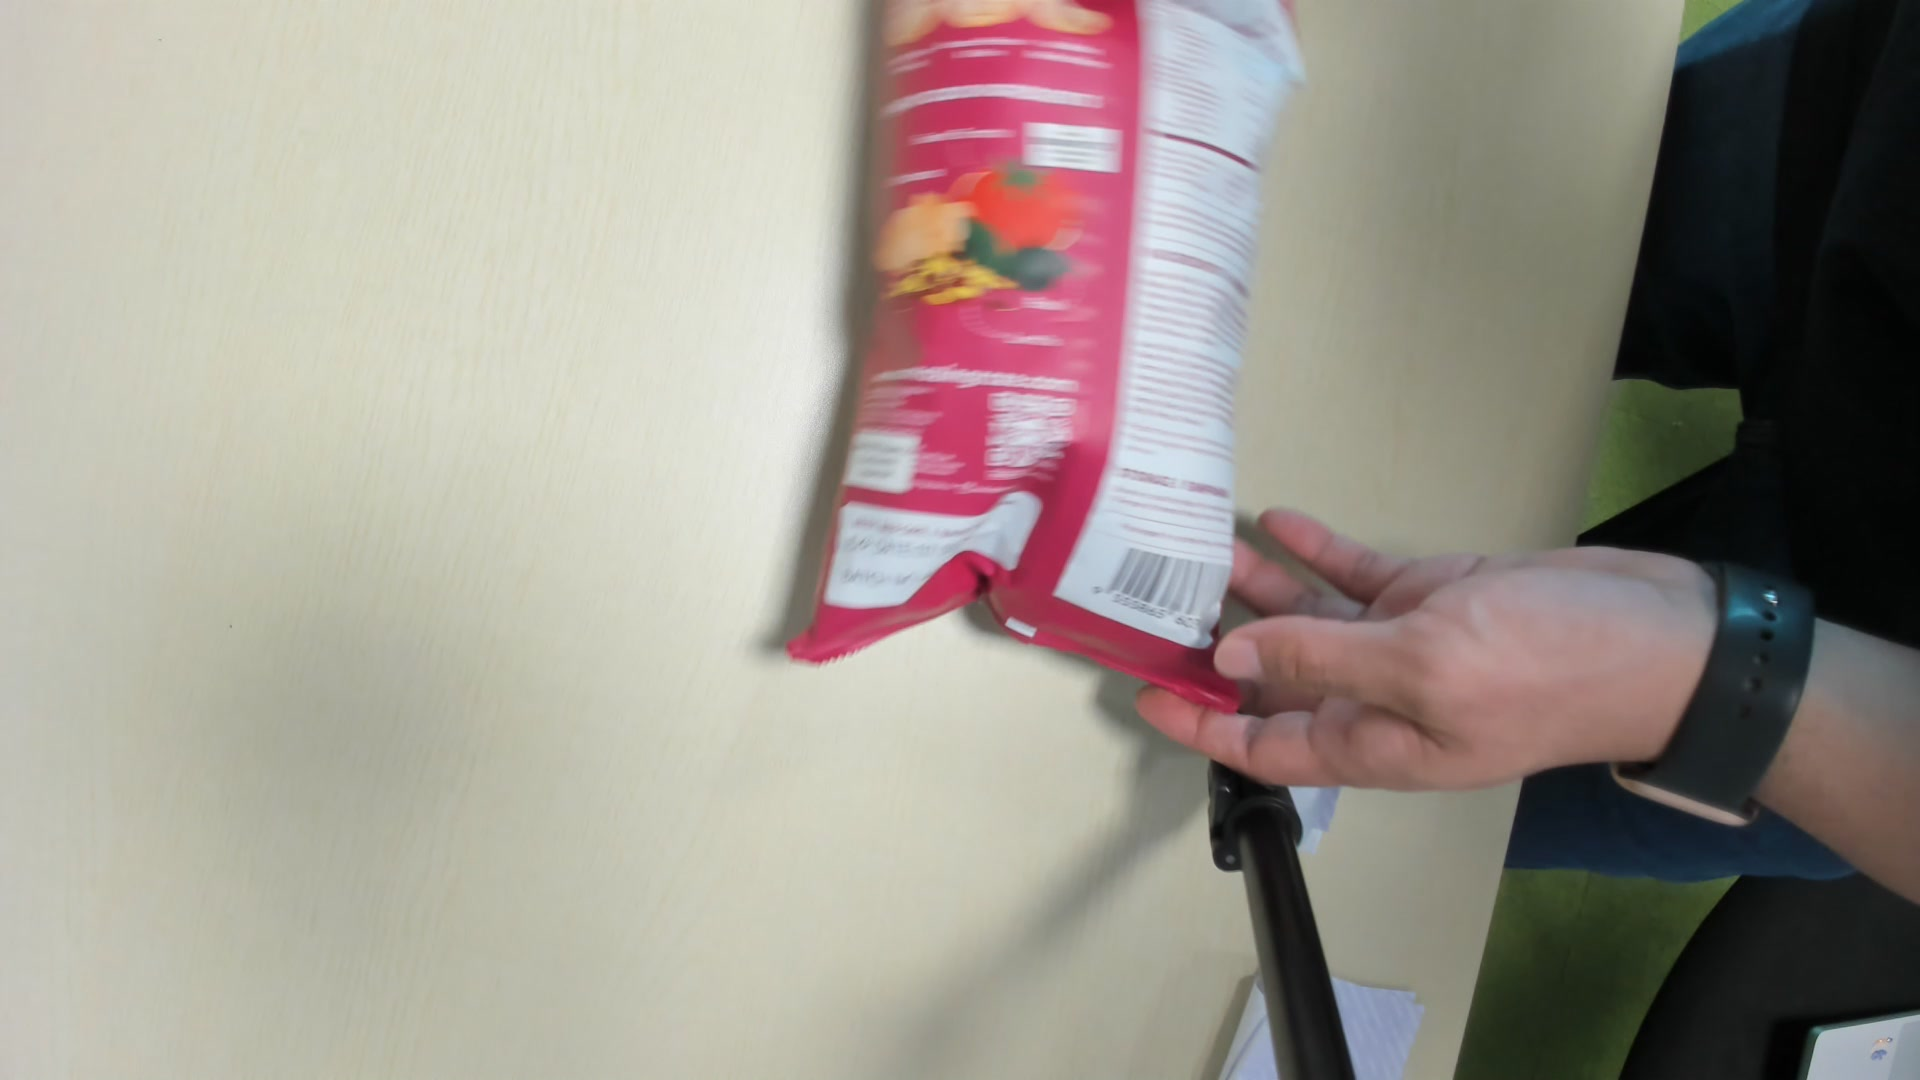PotatoChipsKeropok_100-199g_NonHalal_NonHealthy: (793, 1, 1298, 700)
